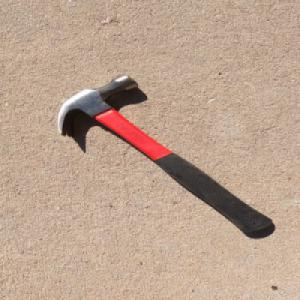Hammer: (54, 72, 276, 239)
